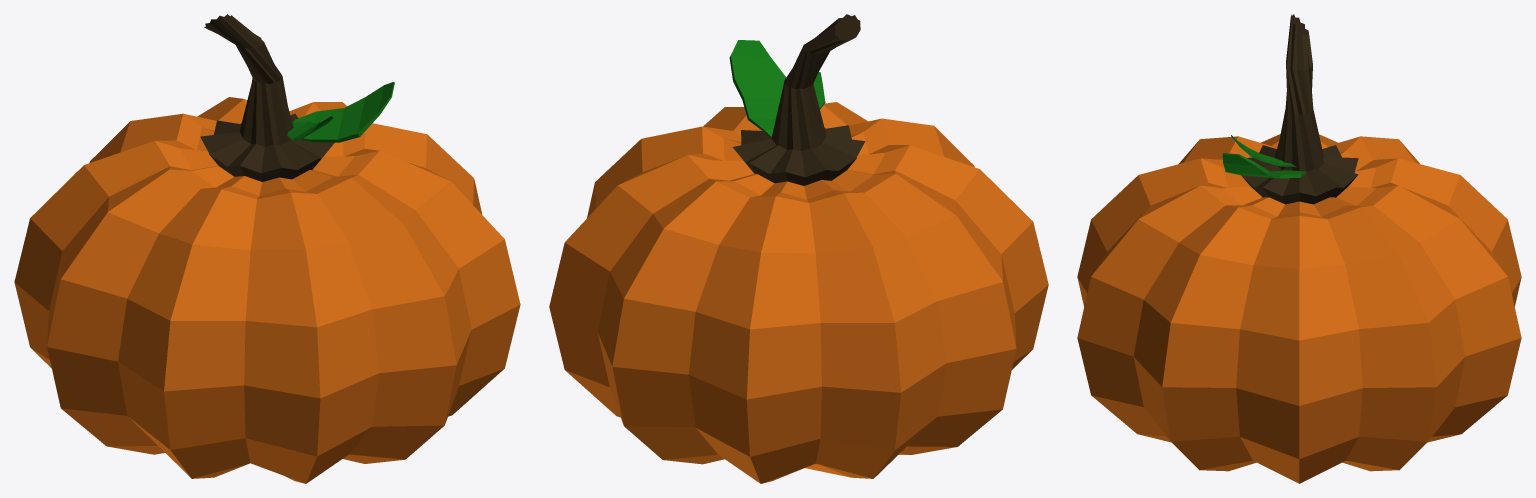
File: citrouille.fbx
3 views of the same model, side by side, from view 1: azimuth 30°, elevation 25°; view 2: azimuth 150°, elevation 25°; view 3: azimuth 270°, elevation 25° (orthographic). The views are drawn at different scales.
Visible parts, largest first — view 1: Cylinder, feuille; view 2: Cylinder, feuille; view 3: Cylinder, feuille.
Boxes of the visible parts, x1,y1,x2,y2 form: Cylinder: [14, 14, 520, 483]; feuille: [287, 82, 394, 142]; Cylinder: [549, 14, 1048, 483]; feuille: [729, 40, 825, 137]; Cylinder: [1077, 14, 1521, 483]; feuille: [1222, 135, 1306, 178].
Size of the model in its own units: 243 by 225 by 231.
